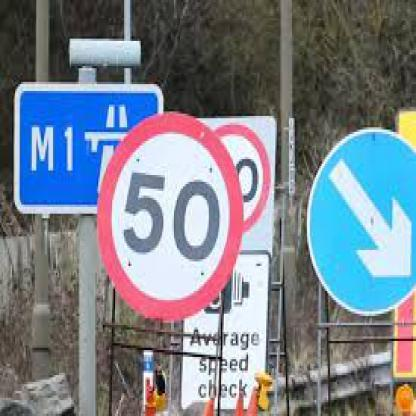Speed Limit 50: (104, 114, 236, 316)
